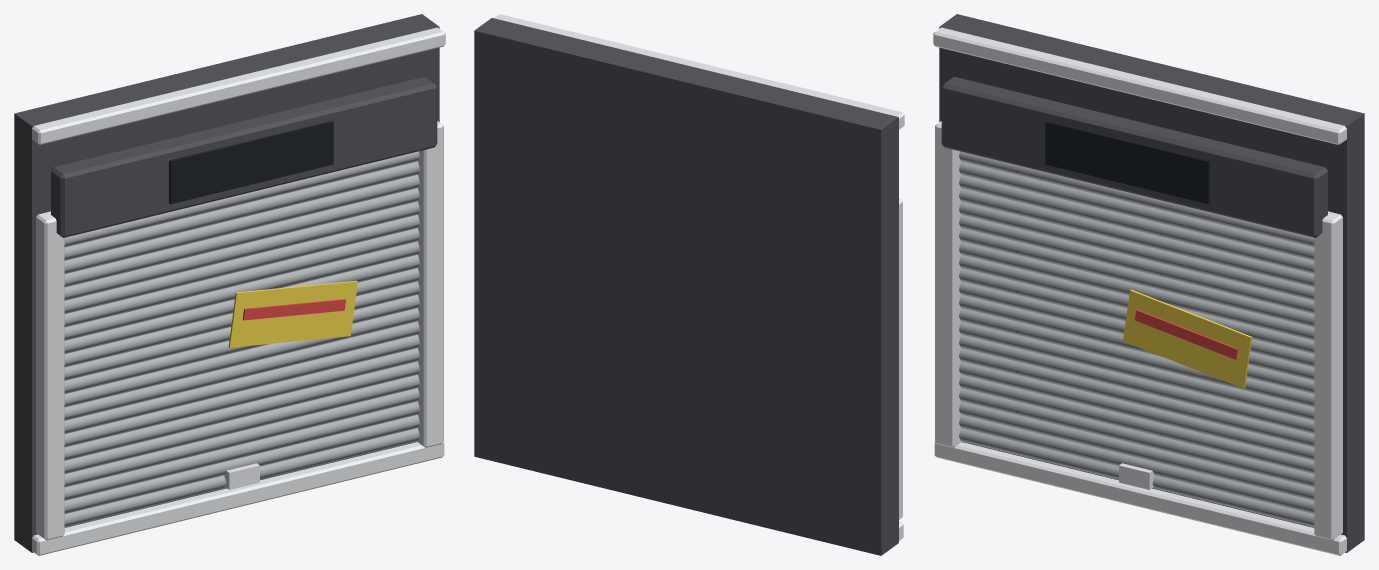
The model's file is wall_mp_shutter.glb.
3 views of the same model, side by side, from view 1: azimuth 30°, elevation 25°; view 2: azimuth 150°, elevation 25°; view 3: azimuth 330°, elevation 25° (orthographic).
Parts seen in each view (by area): view 1: wall_mp_shutter; view 2: wall_mp_shutter; view 3: wall_mp_shutter.
Part boxes in pixels (x1=…): wall_mp_shutter: x1=14, y1=14, x2=445, y2=555; wall_mp_shutter: x1=474, y1=14, x2=904, y2=555; wall_mp_shutter: x1=933, y1=14, x2=1364, y2=555.
Size of the model in its own units: 4 by 4 by 0.575.
